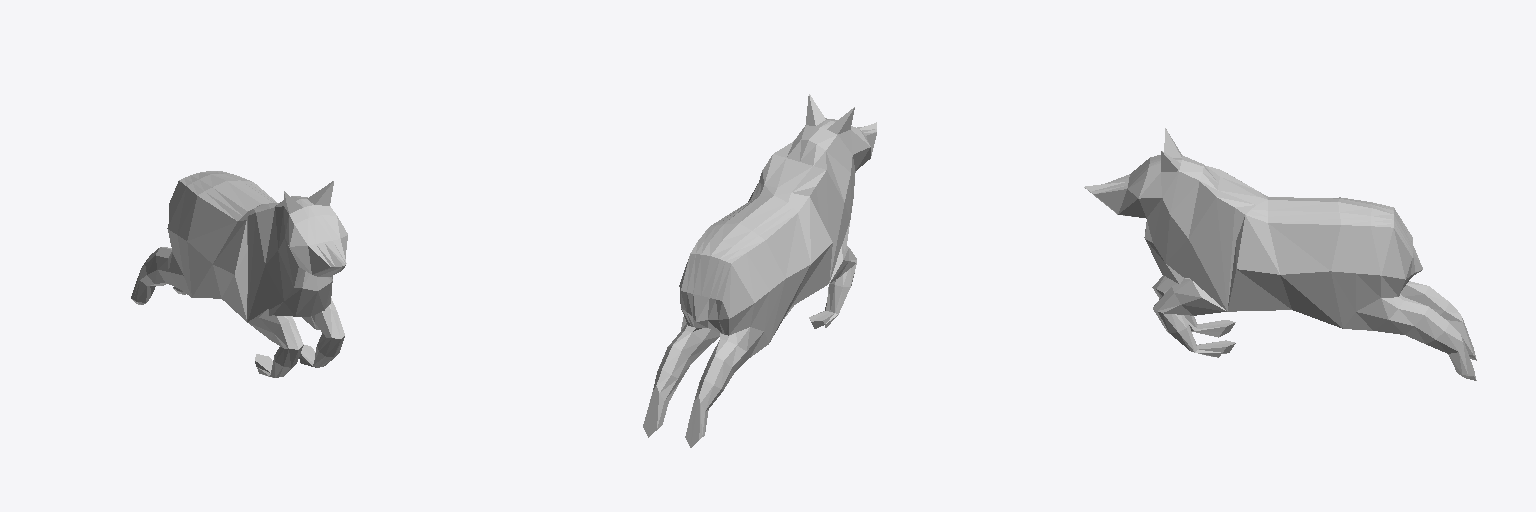
Rendered from piesblendtex_000015.obj.
3 views of the same model, side by side, from view 1: azimuth 30°, elevation 25°; view 2: azimuth 150°, elevation 25°; view 3: azimuth 270°, elevation 25° (orthographic).
Parts seen in each view (by area): view 1: Cube; view 2: Cube; view 3: Cube.
Part boxes in pixels (left/top/right/bottom): Cube: left=131, top=171, right=347, bottom=377; Cube: left=643, top=94, right=876, bottom=447; Cube: left=1084, top=128, right=1476, bottom=380.
Size of the model in its own units: 2.56 by 6.51 by 10.1.